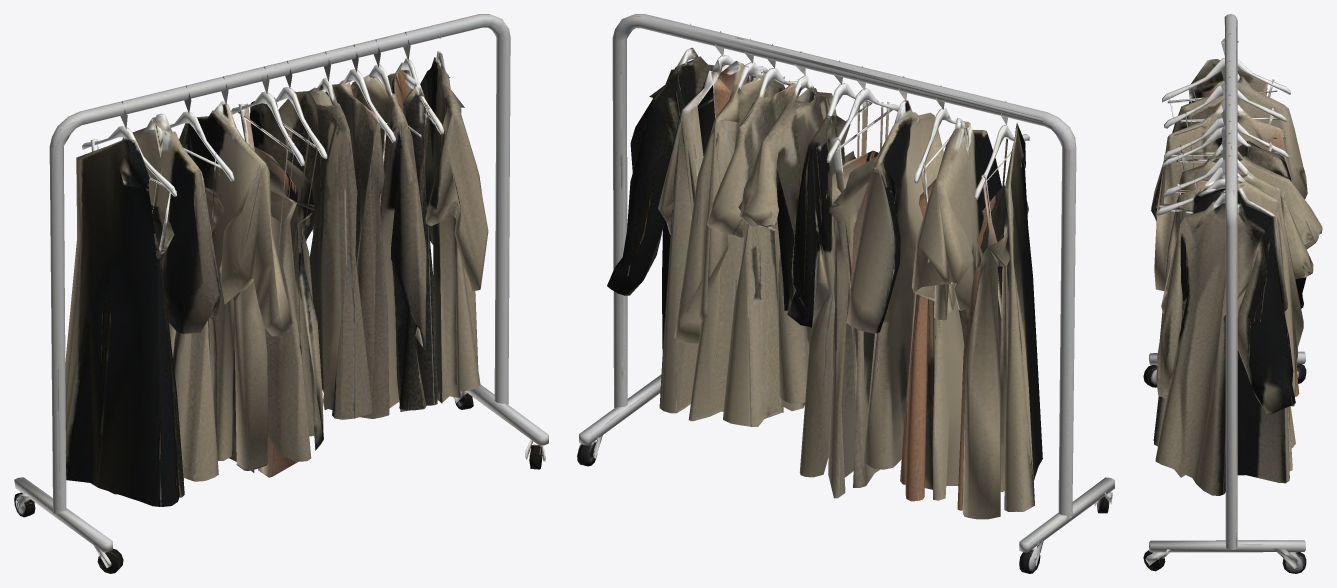
File: office-clothing-rack.glb
The picture shows the model from 3 angles, left to right: view 1: azimuth 30°, elevation 25°; view 2: azimuth 150°, elevation 25°; view 3: azimuth 270°, elevation 25°; orthographic projection. The views are drawn at different scales.
Parts seen in each view (by area): view 1: clothing-rack; view 2: clothing-rack; view 3: clothing-rack.
Part boxes in pixels (box(x1,y1,x2,y2)): clothing-rack: box(14, 14, 548, 573); clothing-rack: box(577, 14, 1114, 573); clothing-rack: box(1143, 14, 1322, 573).
Size of the model in its own units: 1.5 by 1.33 by 0.5736.
Materials: 1 (1 with a texture image).
